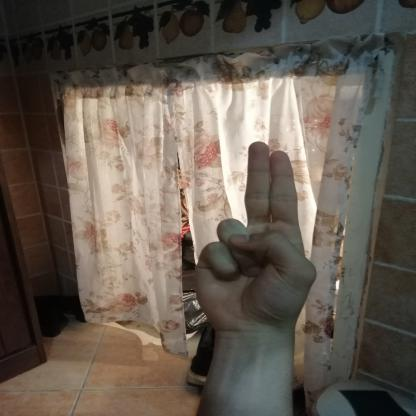TA: (173, 133, 331, 347)
